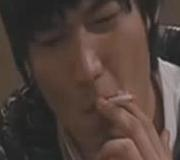smoke: (101, 88, 142, 112)
